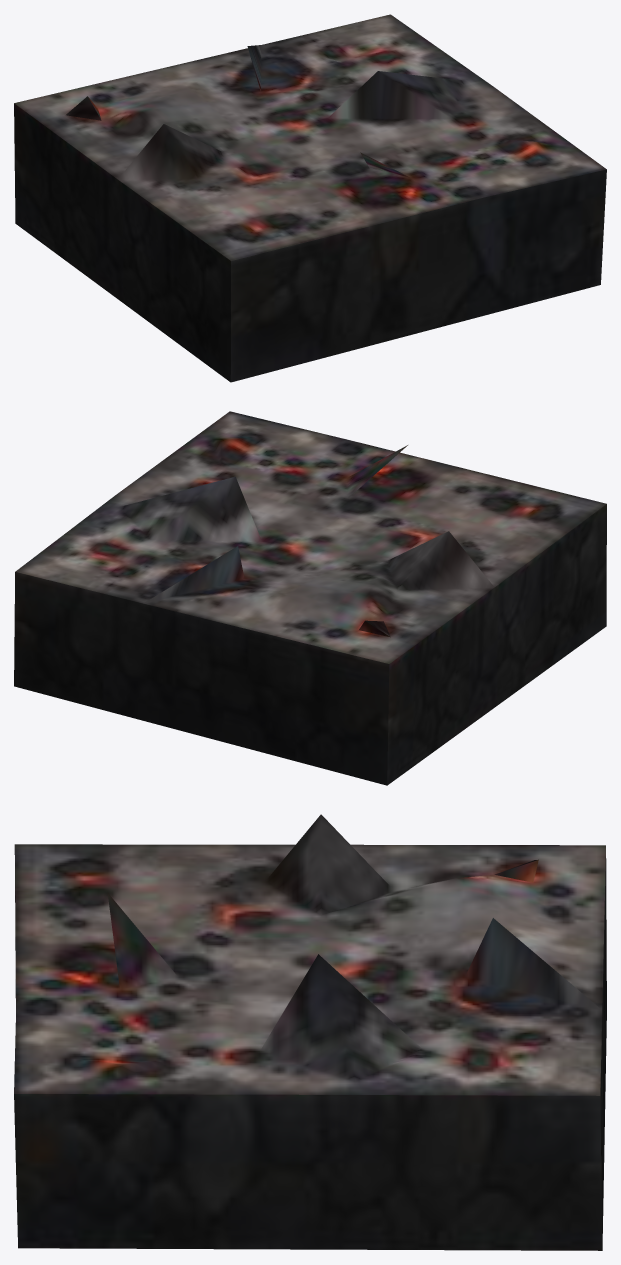
Rendered from b_braises_sol_2_lo.glb.
3 renders of one model, top to bottom at view 1: azimuth 30°, elevation 25°; view 2: azimuth 150°, elevation 25°; view 3: azimuth 270°, elevation 25°, orthographic. The views are drawn at different scales.
Visible parts, largest first — view 1: geometry_0; view 2: geometry_0; view 3: geometry_0.
Boxes of the visible parts, x1,y1,x2,y2 form: geometry_0: (14,14,606,382); geometry_0: (14,411,606,785); geometry_0: (14,814,606,1250).
Size of the model in its own units: 1 by 0.425 by 1.
1 material, 1 textured.
